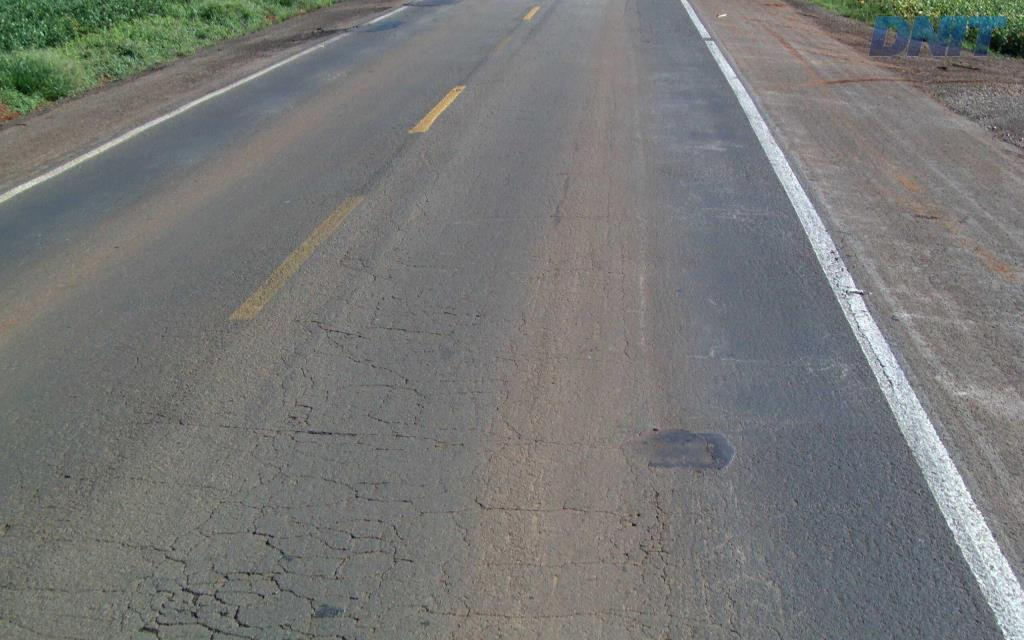crack: (251, 518, 302, 574), (210, 563, 282, 588)
